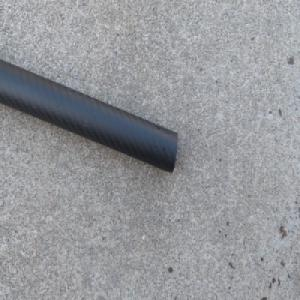LuggagePart: (0, 55, 179, 173)
